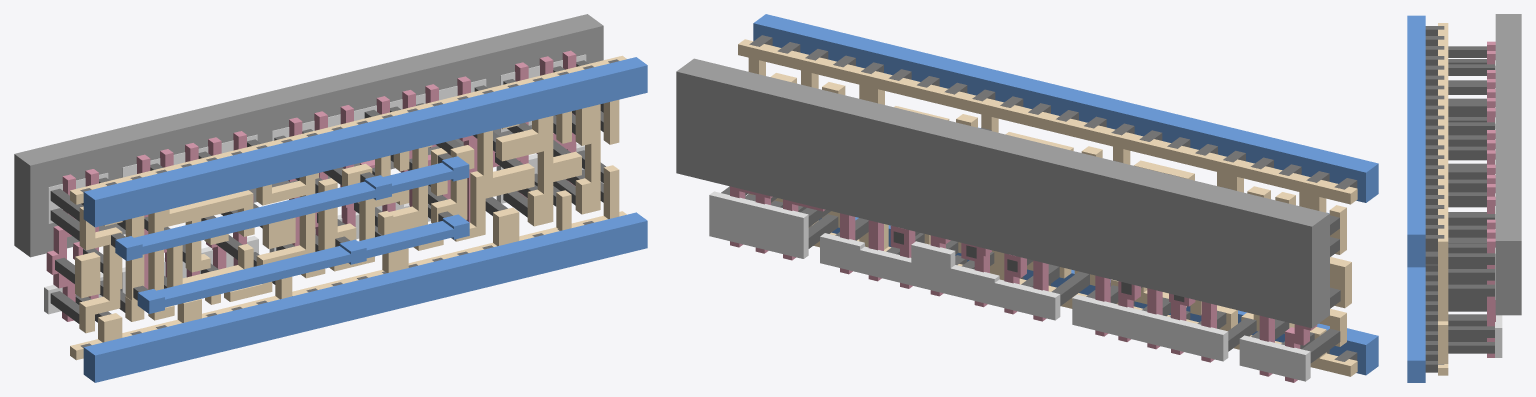
The model's file is sky130_fd_sc_hd__sdfxtp_2.gds.gltf.
3 views of the same model, side by side, from view 1: azimuth 30°, elevation 25°; view 2: azimuth 150°, elevation 25°; view 3: azimuth 270°, elevation 25° (orthographic). The views are drawn at different scales.
Parts seen in each view (by area): view 1: sky130_fd_sc_hd__sdfxtp_2_met1, sky130_fd_sc_hd__sdfxtp_2_li1, sky130_fd_sc_hd__sdfxtp_2_nwell, sky130_fd_sc_hd__sdfxtp_2_poly, sky130_fd_sc_hd__sdfxtp_2_licon, sky130_fd_sc_hd__sdfxtp_2_diff, sky130_fd_sc_hd__sdfxtp_2_mcon; view 2: sky130_fd_sc_hd__sdfxtp_2_nwell, sky130_fd_sc_hd__sdfxtp_2_diff, sky130_fd_sc_hd__sdfxtp_2_li1, sky130_fd_sc_hd__sdfxtp_2_met1, sky130_fd_sc_hd__sdfxtp_2_poly, sky130_fd_sc_hd__sdfxtp_2_licon, sky130_fd_sc_hd__sdfxtp_2_mcon; view 3: sky130_fd_sc_hd__sdfxtp_2_licon, sky130_fd_sc_hd__sdfxtp_2_nwell, sky130_fd_sc_hd__sdfxtp_2_met1, sky130_fd_sc_hd__sdfxtp_2_mcon, sky130_fd_sc_hd__sdfxtp_2_li1, sky130_fd_sc_hd__sdfxtp_2_poly, sky130_fd_sc_hd__sdfxtp_2_diff.
Part boxes in pixels (x1,y1,x2,y2): sky130_fd_sc_hd__sdfxtp_2_met1: [83, 57, 647, 382]; sky130_fd_sc_hd__sdfxtp_2_li1: [70, 55, 626, 360]; sky130_fd_sc_hd__sdfxtp_2_nwell: [14, 14, 603, 257]; sky130_fd_sc_hd__sdfxtp_2_poly: [46, 50, 576, 321]; sky130_fd_sc_hd__sdfxtp_2_licon: [50, 60, 605, 323]; sky130_fd_sc_hd__sdfxtp_2_diff: [44, 54, 586, 314]; sky130_fd_sc_hd__sdfxtp_2_mcon: [80, 59, 618, 347]; sky130_fd_sc_hd__sdfxtp_2_nwell: [676, 58, 1329, 328]; sky130_fd_sc_hd__sdfxtp_2_diff: [709, 191, 1310, 381]; sky130_fd_sc_hd__sdfxtp_2_li1: [738, 39, 1357, 376]; sky130_fd_sc_hd__sdfxtp_2_met1: [753, 14, 1378, 375]; sky130_fd_sc_hd__sdfxtp_2_poly: [730, 186, 1317, 382]; sky130_fd_sc_hd__sdfxtp_2_licon: [721, 127, 1340, 363]; sky130_fd_sc_hd__sdfxtp_2_mcon: [749, 35, 1357, 361]; sky130_fd_sc_hd__sdfxtp_2_licon: [1448, 46, 1494, 353]; sky130_fd_sc_hd__sdfxtp_2_nwell: [1495, 14, 1521, 315]; sky130_fd_sc_hd__sdfxtp_2_met1: [1407, 15, 1425, 382]; sky130_fd_sc_hd__sdfxtp_2_mcon: [1425, 26, 1444, 372]; sky130_fd_sc_hd__sdfxtp_2_li1: [1438, 23, 1448, 375]; sky130_fd_sc_hd__sdfxtp_2_poly: [1487, 41, 1495, 357]; sky130_fd_sc_hd__sdfxtp_2_diff: [1495, 60, 1502, 357].
Size of the model in its own units: 10.5 by 3.2 by 2.24.
